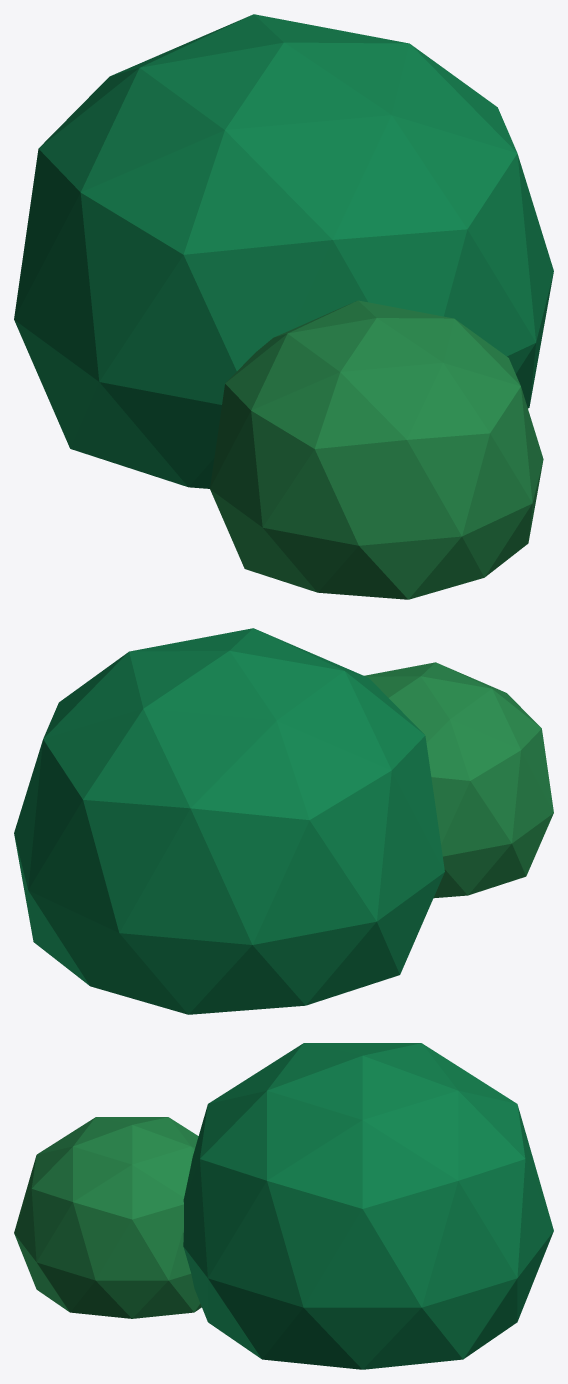
File: Bush1.fbx
The picture shows the model from 3 angles, top to bottom: view 1: azimuth 30°, elevation 25°; view 2: azimuth 150°, elevation 25°; view 3: azimuth 270°, elevation 25°; orthographic projection. The views are drawn at different scales.
Parts seen in each view (by area): view 1: Icosphere; view 2: Icosphere; view 3: Icosphere.
Part boxes in pixels (x1=…): Icosphere: x1=14, y1=14, x2=553, y2=599; Icosphere: x1=14, y1=628, x2=553, y2=1014; Icosphere: x1=14, y1=1043, x2=553, y2=1369.
Size of the model in its own units: 238 by 177 by 353.
